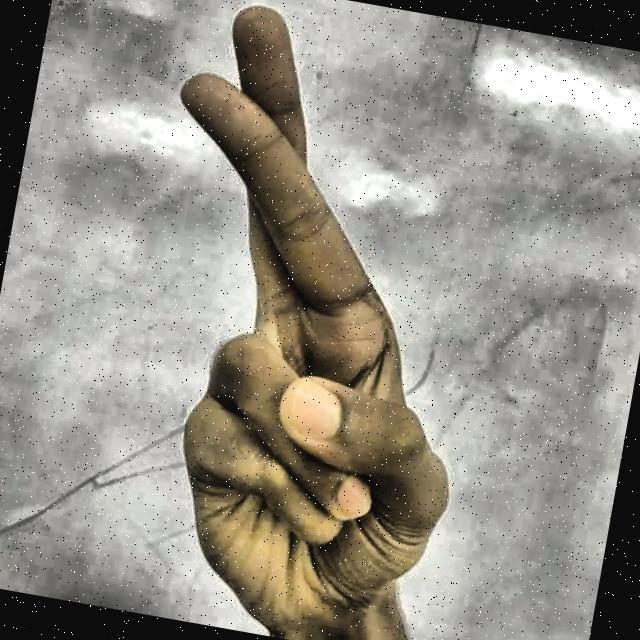Ra: (38, 0, 554, 640)
